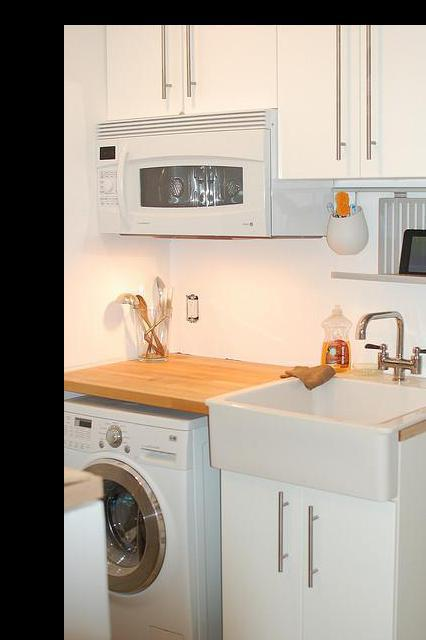Lavaplatos: (206, 306, 426, 484)
